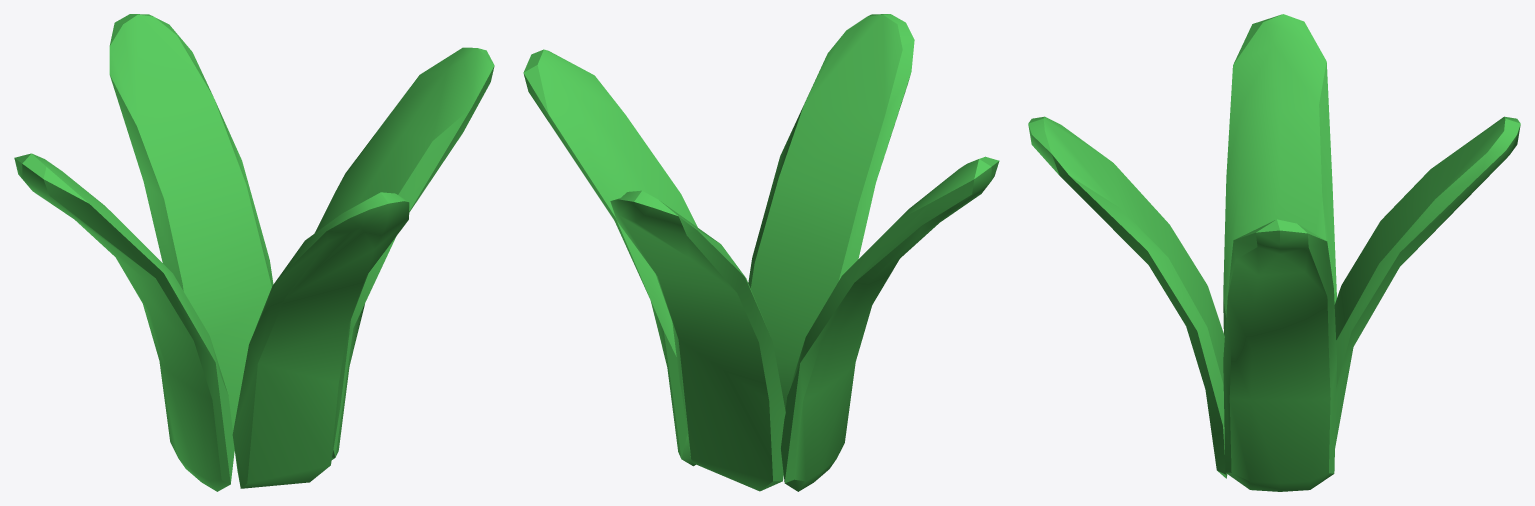
The model's file is grass.fbx.
3 views of the same model, side by side, from view 1: azimuth 30°, elevation 25°; view 2: azimuth 150°, elevation 25°; view 3: azimuth 270°, elevation 25° (orthographic). The views are drawn at different scales.
Parts seen in each view (by area): view 1: Plane.002; view 2: Plane.002; view 3: Plane.002.
Part boxes in pixels (bbox=[...]): Plane.002: bbox=[14, 14, 494, 491]; Plane.002: bbox=[523, 14, 999, 491]; Plane.002: bbox=[1028, 14, 1520, 491].
Size of the model in its own units: 0.2046 by 0.1553 by 0.1977.
